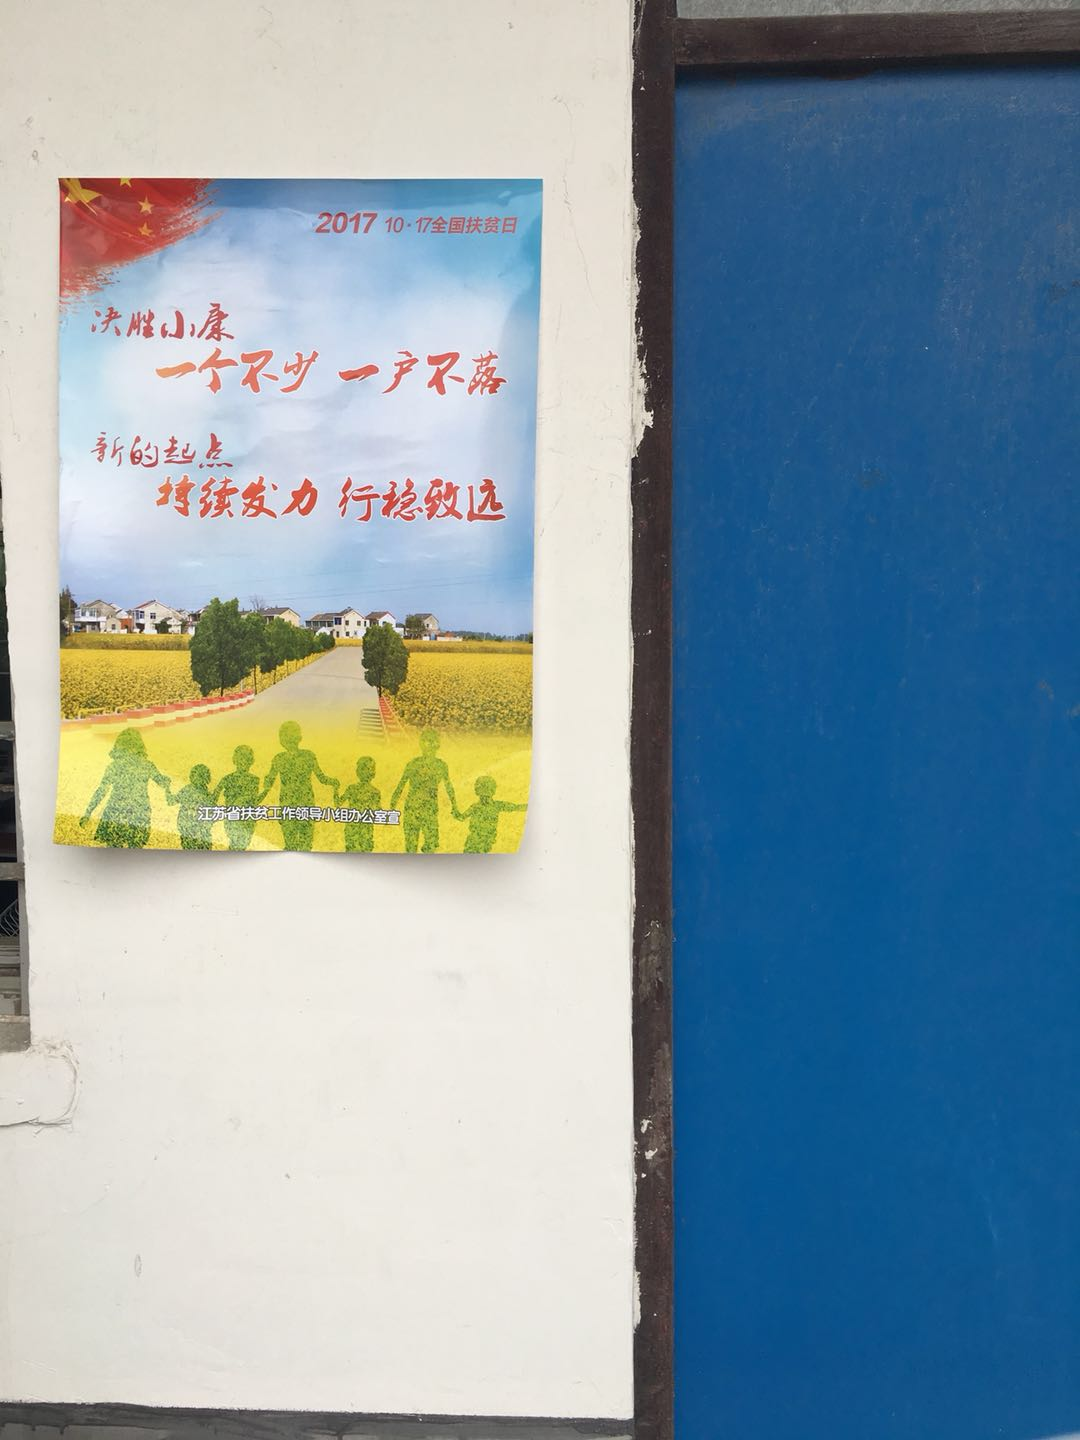bill: (51, 178, 545, 861)
